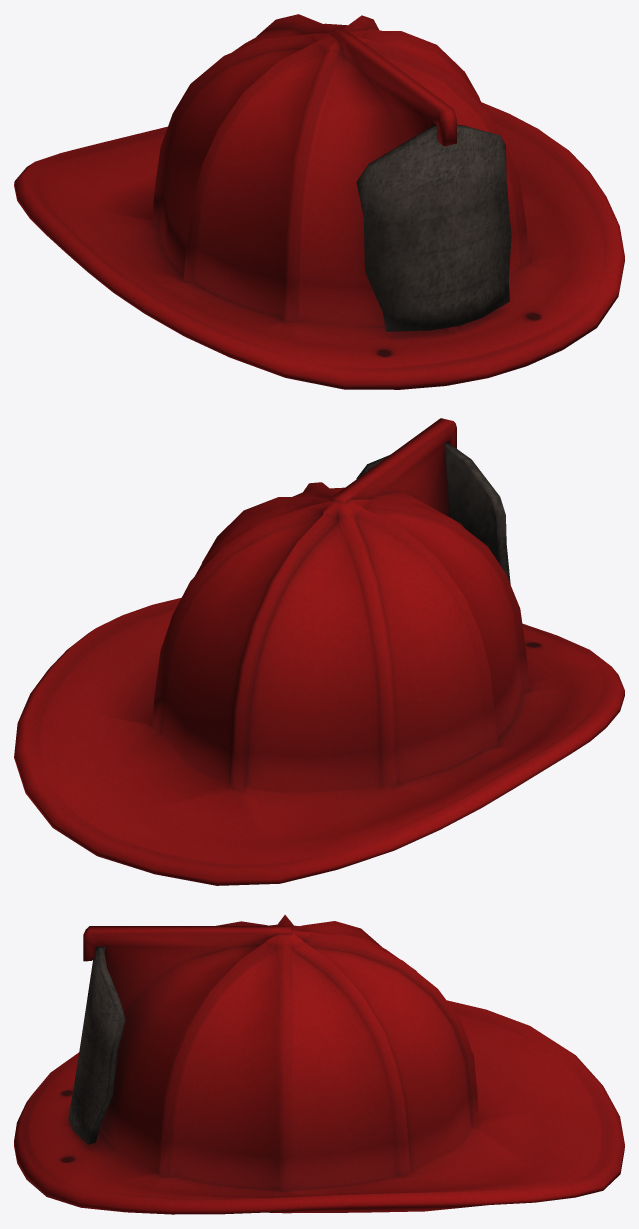
Rendered from FiremanHelmet.fbx.
3 views of the same model, one above another, from view 1: azimuth 30°, elevation 25°; view 2: azimuth 150°, elevation 25°; view 3: azimuth 270°, elevation 25° (orthographic). The views are drawn at different scales.
Visible parts, largest first — view 1: Fireman; view 2: Fireman; view 3: Fireman.
Part boxes in pixels (x1=…): Fireman: x1=14, y1=14, x2=624, y2=389; Fireman: x1=14, y1=418, x2=624, y2=885; Fireman: x1=14, y1=915, x2=624, y2=1214.
Size of the model in its own units: 3208 by 1583 by 3851.
Materials: 1 (1 with a texture image).
